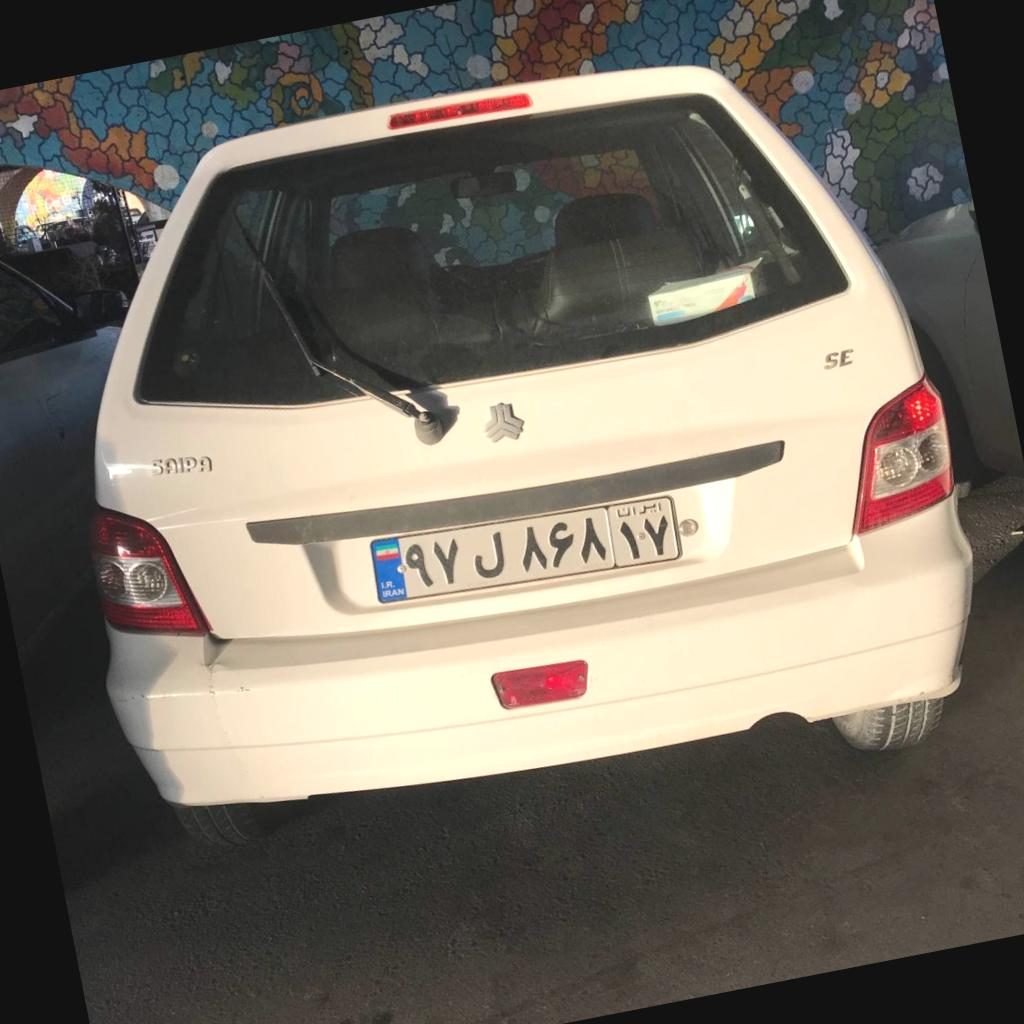Plates: (371, 496, 680, 604)
